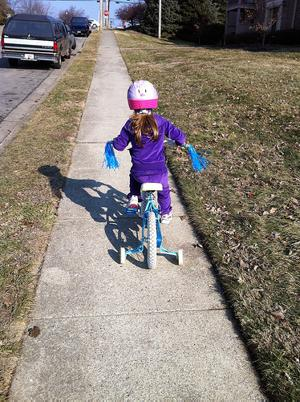person: (112, 79, 189, 223)
